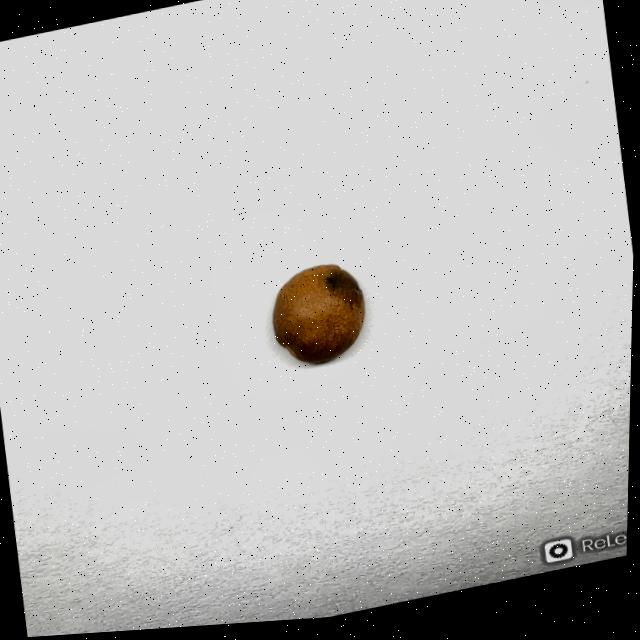Scorched: (266, 260, 375, 377)
